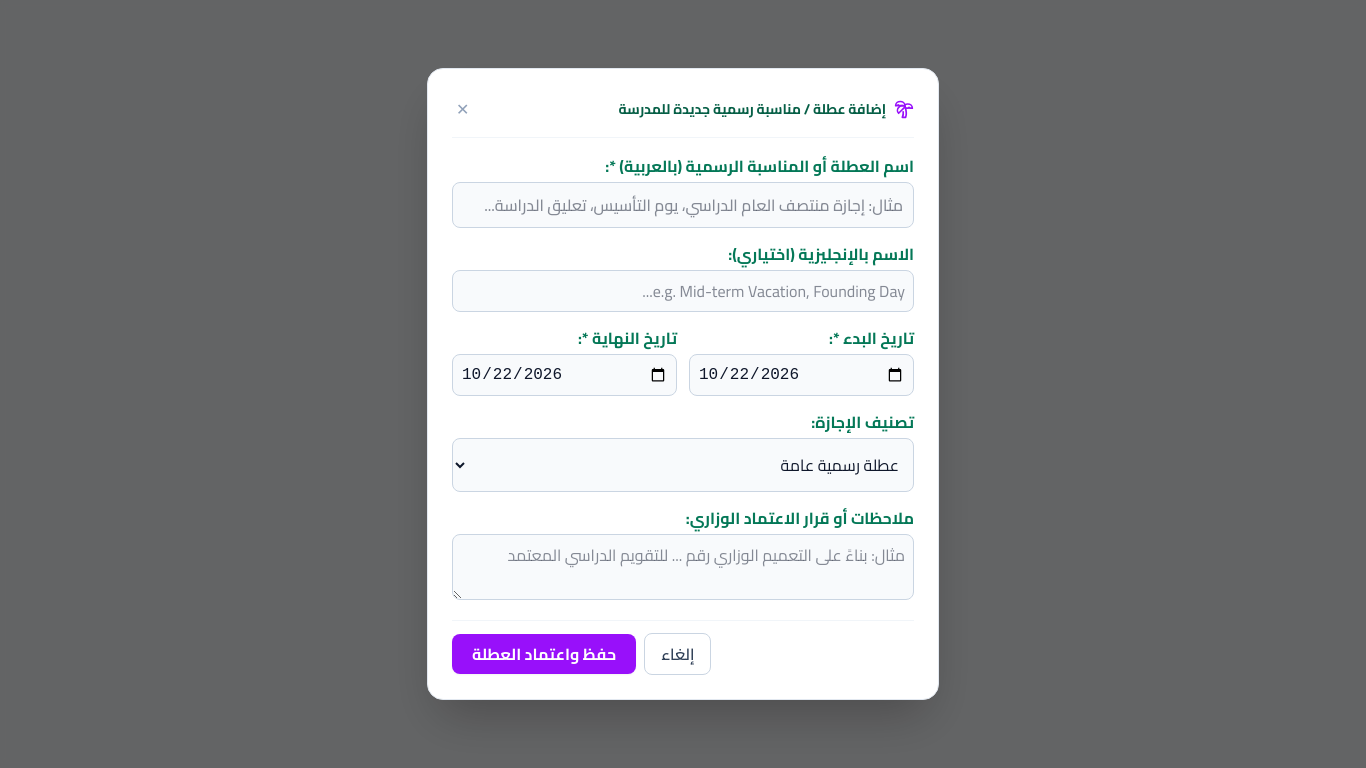
Test: AddHolidayModal › moves the end date forward when the start date passes it
The width and height of the screenshot is (1366, 768).
Type "2026-05-10" into the date field below "تاريخ النهاية *:".
click(564, 375); type("2026-05-10")  # box [452,354,677,396]
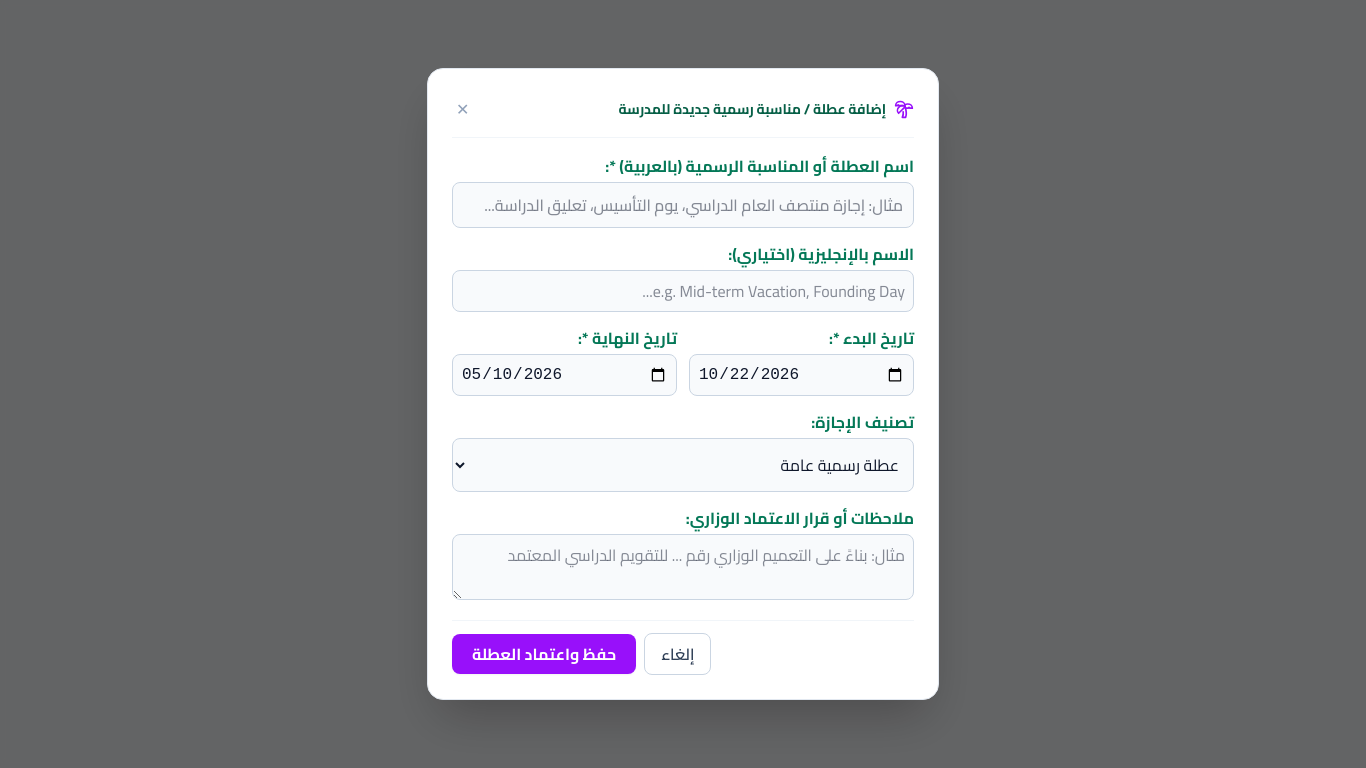
Type "2026-05-12" into the date field below "تاريخ البدء *:".
click(802, 375); type("2026-05-12")  # box [689,354,914,396]
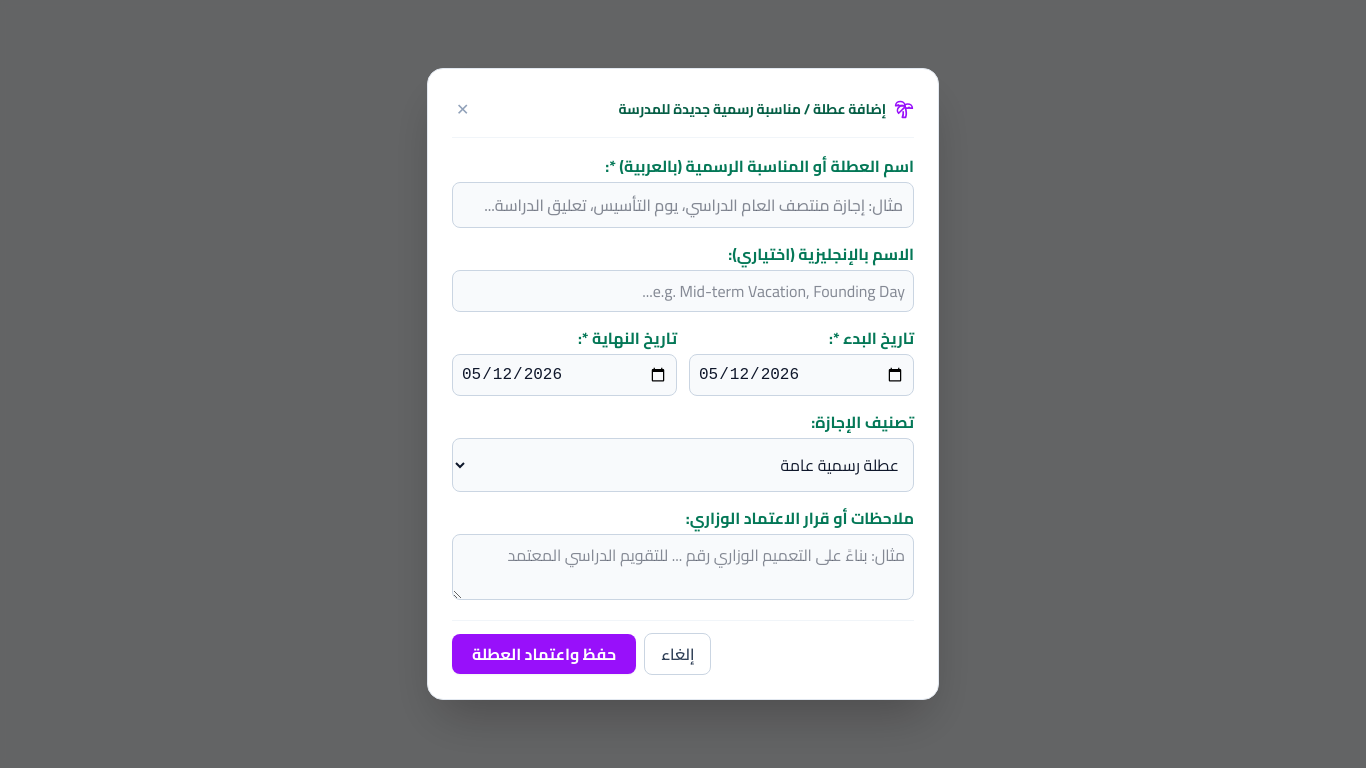
expect the date field below "تاريخ النهاية *:" holds "2026-05-12": met, box [452,354,677,396]
